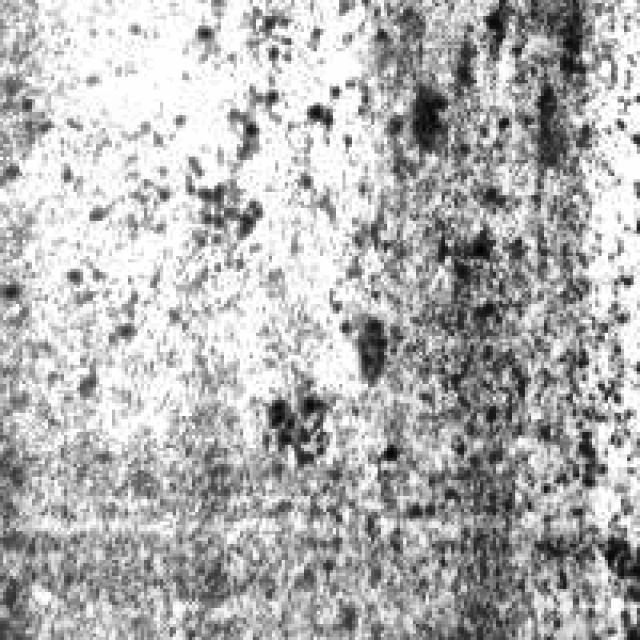Rolled_in_Scale: (0, 0, 528, 374)
